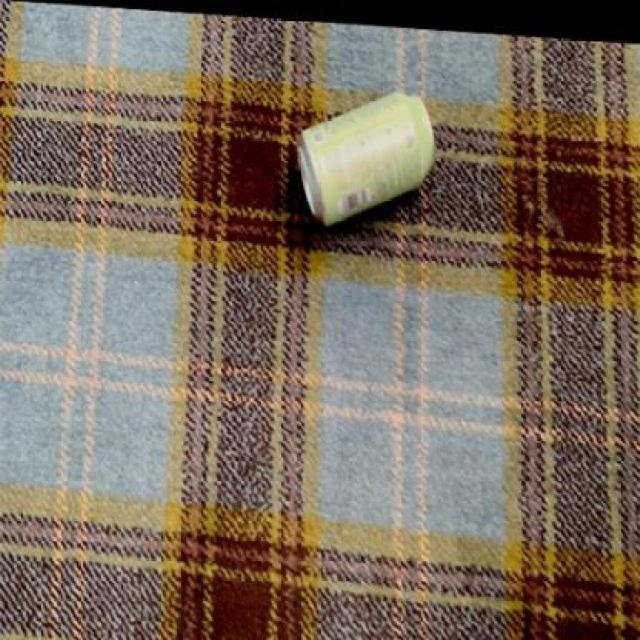Metal: (291, 86, 439, 232)
